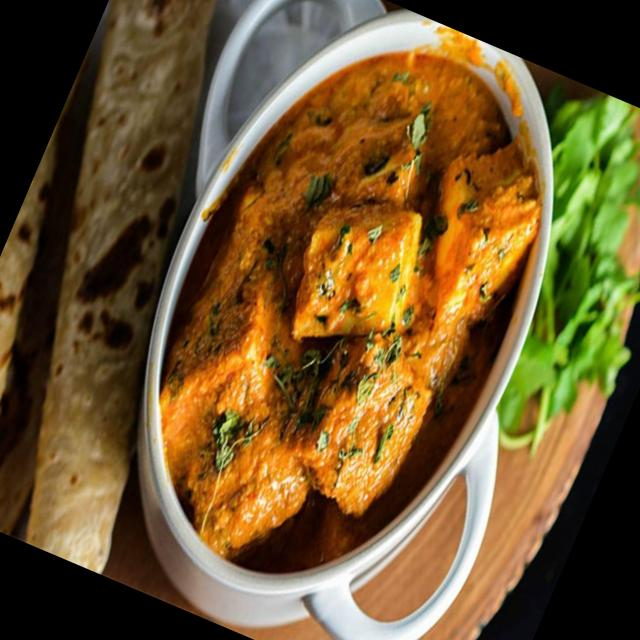roti: (0, 0, 222, 525)
